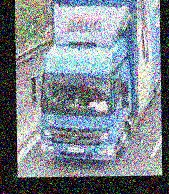truck: (31, 0, 162, 163)
